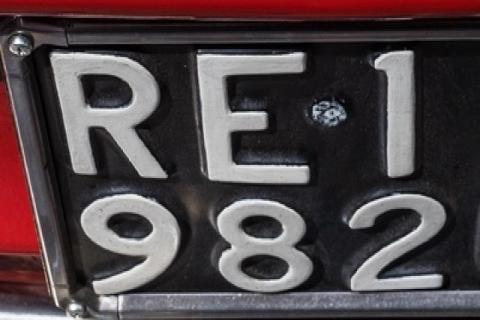LicensePlate: (0, 16, 480, 320)
